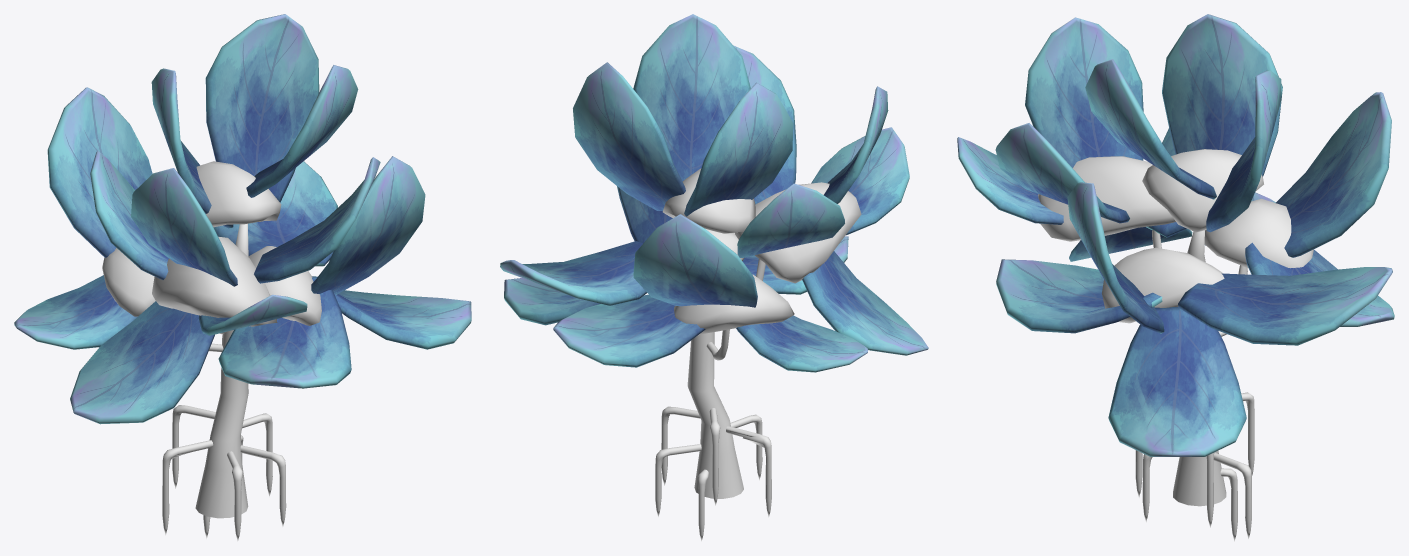
The model's file is MOD_Tree15.FBX.
3 renders of one model, left to right at view 1: azimuth 30°, elevation 25°; view 2: azimuth 150°, elevation 25°; view 3: azimuth 270°, elevation 25°, orthographic. The views are drawn at different scales.
Visible parts, largest first — view 1: Plane017, Object039, Cylinder008; view 2: Plane017, Object039, Cylinder008; view 3: Plane017, Object039, Cylinder008.
Boxes of the visible parts, <box> form: Plane017: <box>14,14,471,424</box>; Object039: <box>102,161,321,326</box>; Cylinder008: <box>162,223,286,541</box>; Plane017: <box>500,14,928,372</box>; Object039: <box>662,168,861,335</box>; Cylinder008: <box>655,259,771,541</box>; Plane017: <box>957,14,1394,456</box>; Object039: <box>1038,149,1313,323</box>; Cylinder008: <box>1135,230,1254,541</box>.
Bounding box in the file's own units: 237 × 267 × 205.
